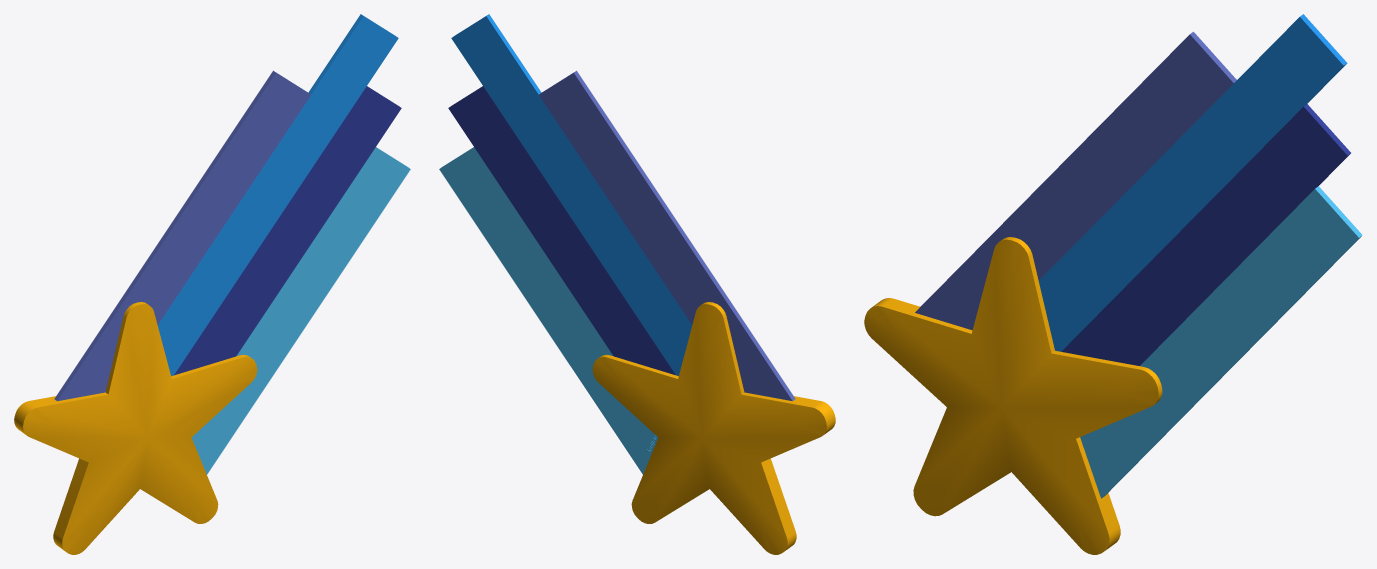
Rendered from shooting_star.fbx.
The picture shows the model from 3 angles, left to right: view 1: azimuth 30°, elevation 25°; view 2: azimuth 150°, elevation 25°; view 3: azimuth 330°, elevation 25°; orthographic projection. The views are drawn at different scales.
Parts seen in each view (by area): view 1: Circle.2114; view 2: Circle.2114; view 3: Circle.2114.
Boxes of the visible parts, x1=… form: Circle.2114: x1=14, y1=14, x2=410, y2=554; Circle.2114: x1=439, y1=14, x2=835, y2=554; Circle.2114: x1=864, y1=14, x2=1362, y2=554.
Bounding box in the file's own units: 196 × 223 × 20.76.
Materials: 1 (1 with a texture image).
